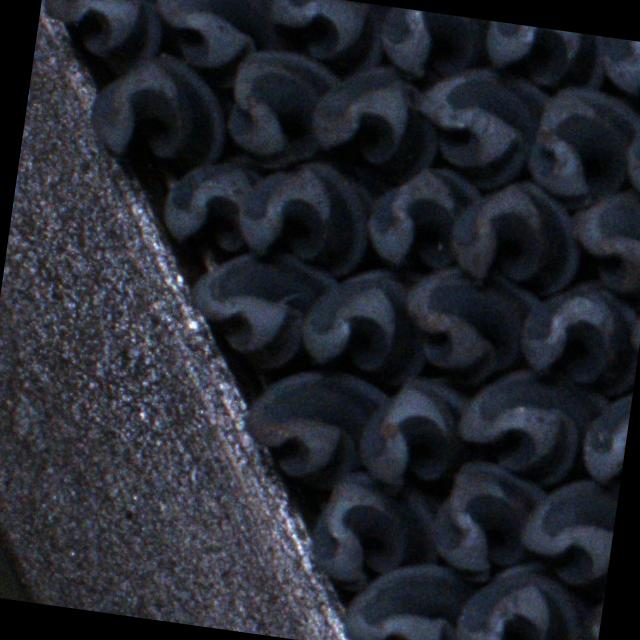tool_b: (184, 243, 342, 377), (453, 362, 618, 489), (238, 363, 394, 495), (396, 261, 546, 388), (86, 47, 235, 174), (307, 466, 450, 598), (408, 61, 552, 192), (233, 154, 379, 276), (444, 174, 588, 297), (295, 258, 435, 384), (304, 60, 444, 184), (427, 458, 552, 585), (222, 48, 344, 174), (514, 273, 640, 393), (523, 81, 640, 210), (352, 372, 470, 494), (363, 162, 487, 278), (448, 554, 593, 640), (157, 148, 270, 255), (518, 470, 620, 587), (339, 553, 475, 640), (366, 5, 494, 86), (148, 0, 283, 75), (35, 0, 170, 73), (476, 20, 608, 92), (257, 0, 388, 69), (560, 185, 640, 297), (579, 380, 634, 490), (587, 35, 640, 102), (572, 566, 608, 640), (619, 99, 640, 210)
